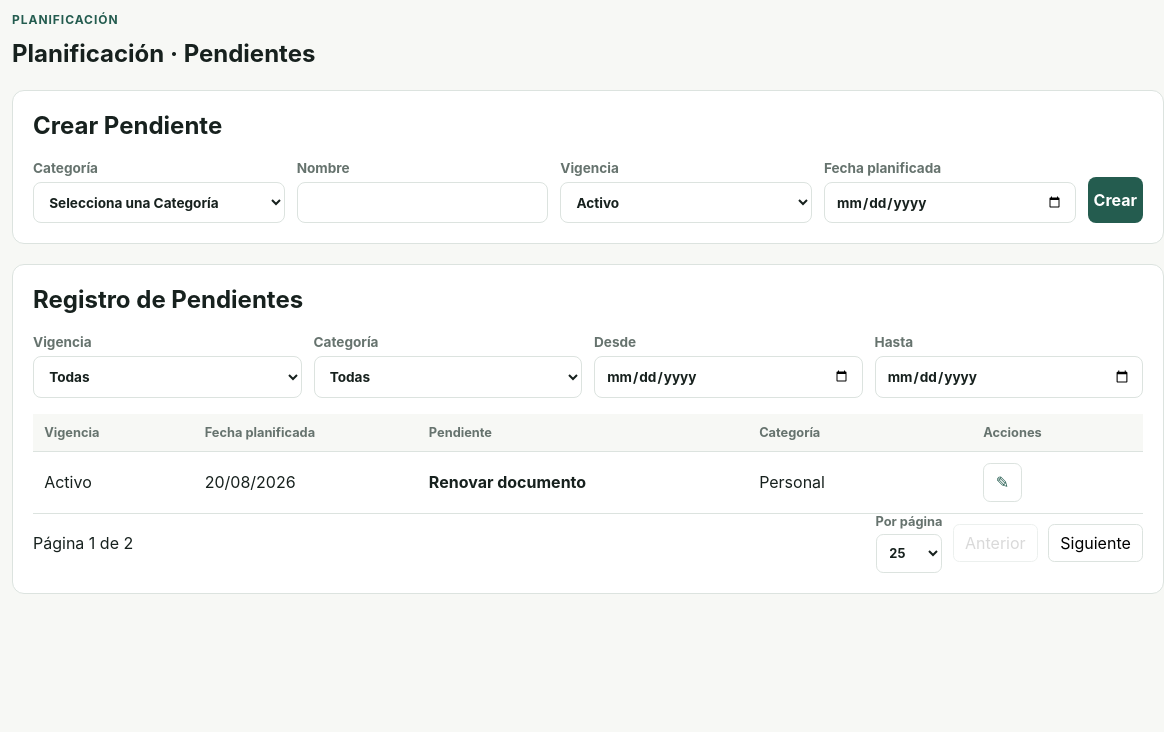
Test: PlanningPendingItemsPage › requires a planned date for active creation
Expected: the text "Renovar documento" is shown, [429,472,586,492]
Select "Personal" in the dropdown labelled "Categoría" below "Nombre" at (159, 203), box [33,182,285,224]
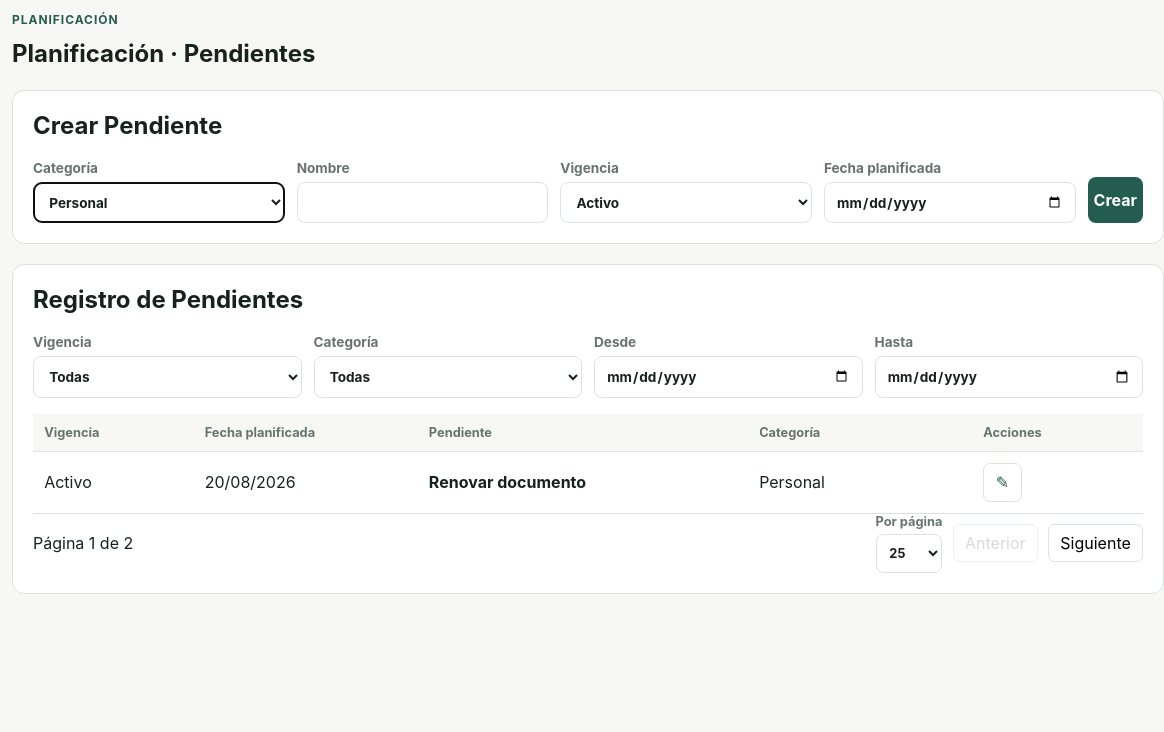
Type "Comprar lentes" into the field labelled "Nombre" at (422, 203), box [297,182,548,224]
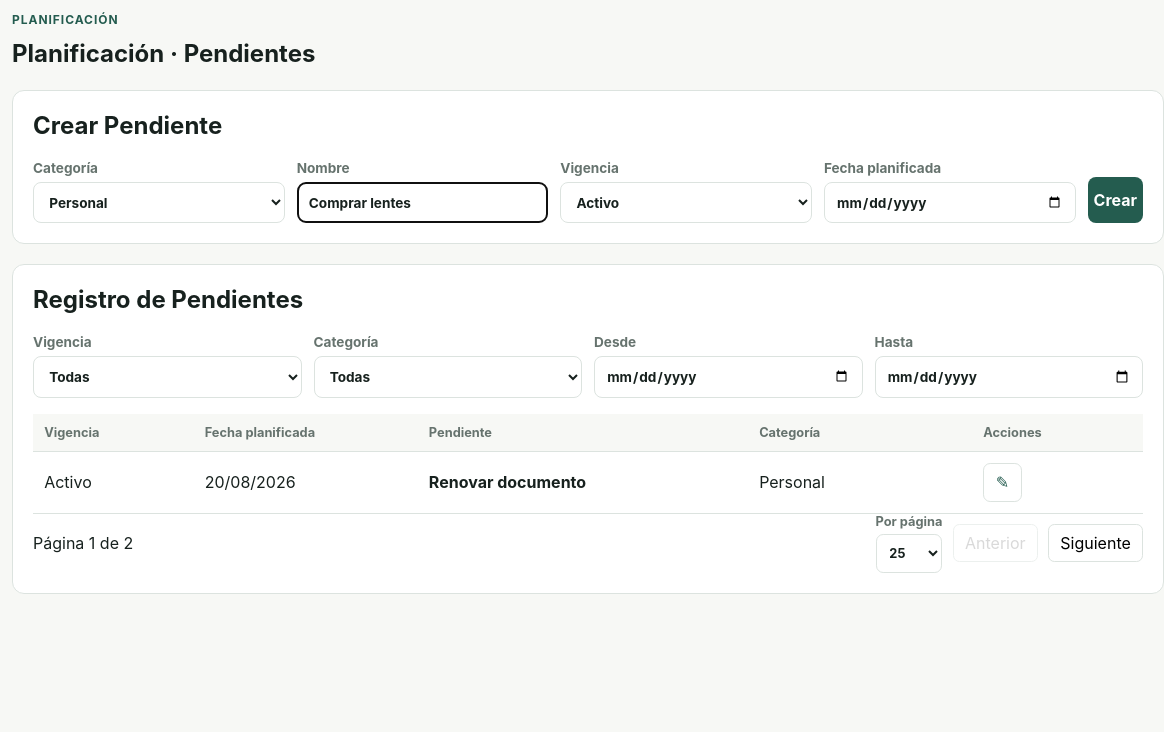
Submit the form "Crear", box [33,160,1143,224]
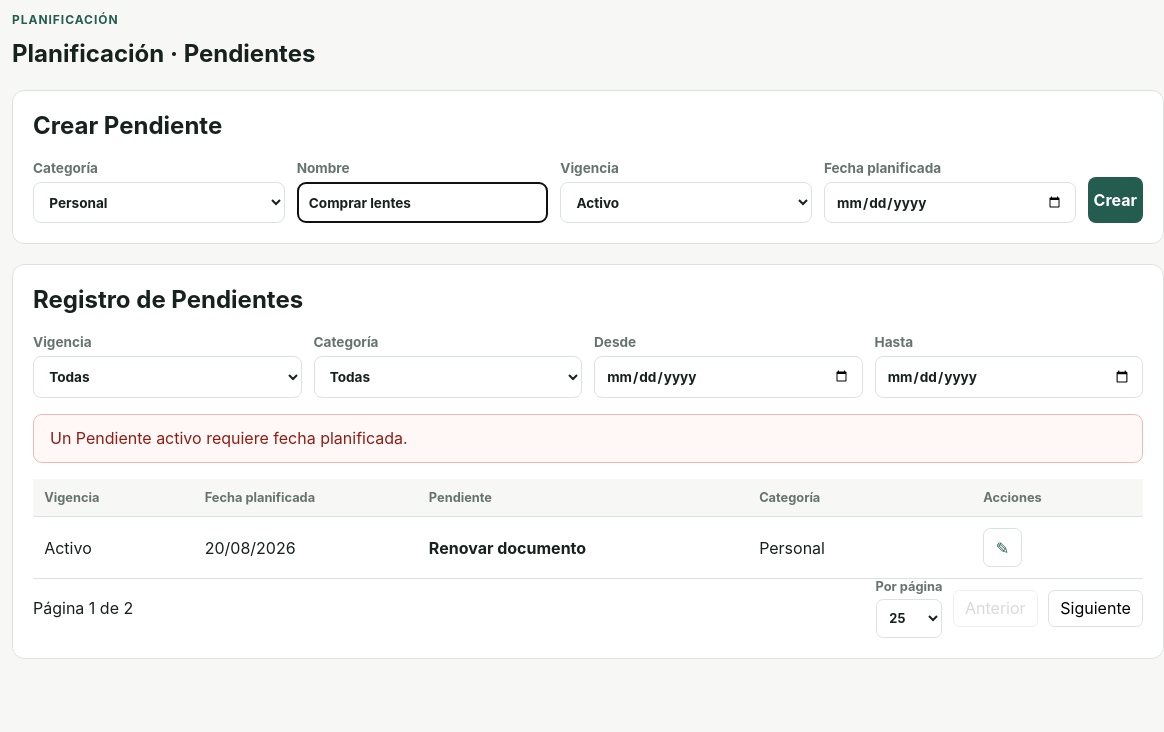
Expected: the message shows "requiere fecha planificada", [50,428,408,448]
